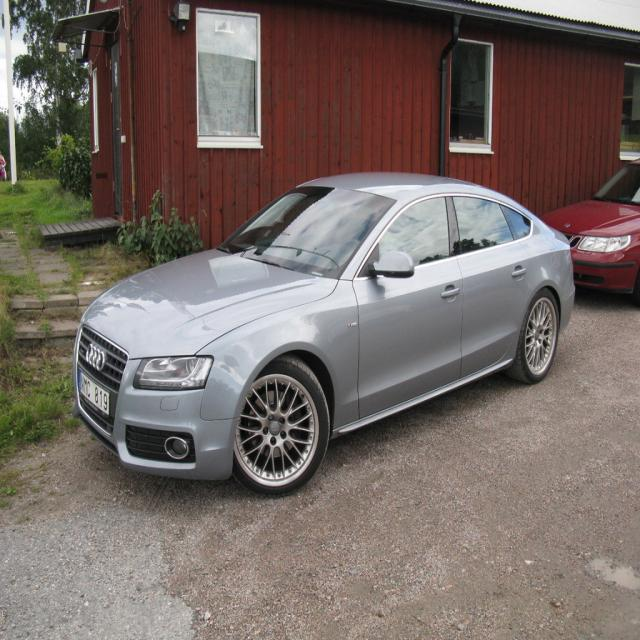car: (55, 171, 579, 497)
